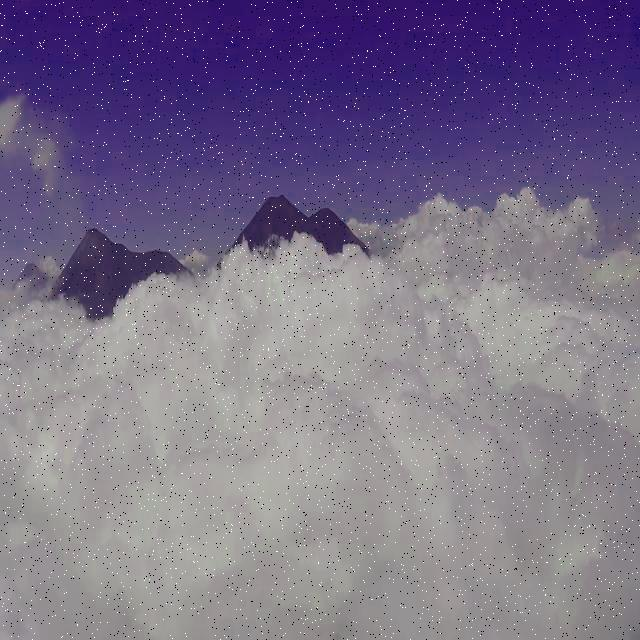Summit: (64, 221, 132, 264)
